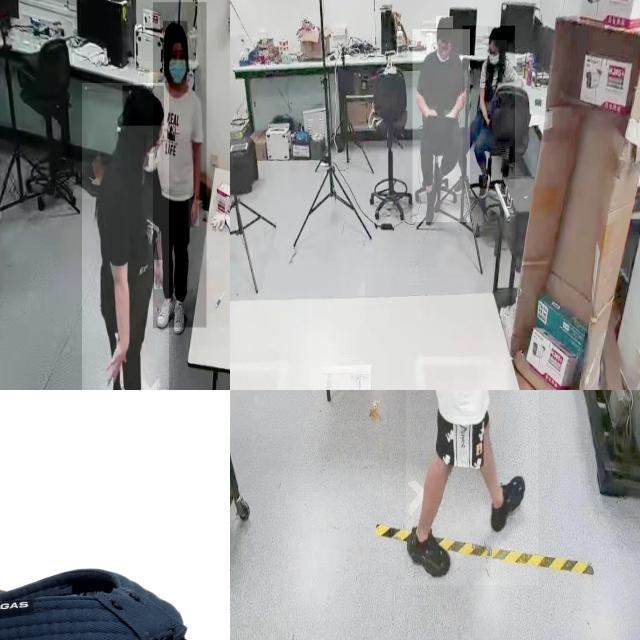Sandals: (0, 551, 230, 640)
face_mask: (165, 43, 189, 93), (144, 135, 164, 177), (484, 40, 508, 65)
hand_noglove: (103, 336, 129, 384), (188, 199, 200, 227), (154, 260, 164, 290), (423, 107, 438, 117), (444, 110, 457, 118), (484, 115, 491, 127)
head_nohelmet: (122, 86, 164, 126), (163, 21, 188, 44), (436, 16, 454, 29), (488, 26, 504, 40)
person: (82, 82, 169, 390), (406, 390, 539, 586), (153, 2, 207, 328), (412, 29, 470, 223), (462, 26, 516, 189)
shoes: (404, 524, 454, 580), (486, 465, 524, 534), (421, 179, 441, 232), (153, 290, 173, 332), (170, 295, 188, 339)
